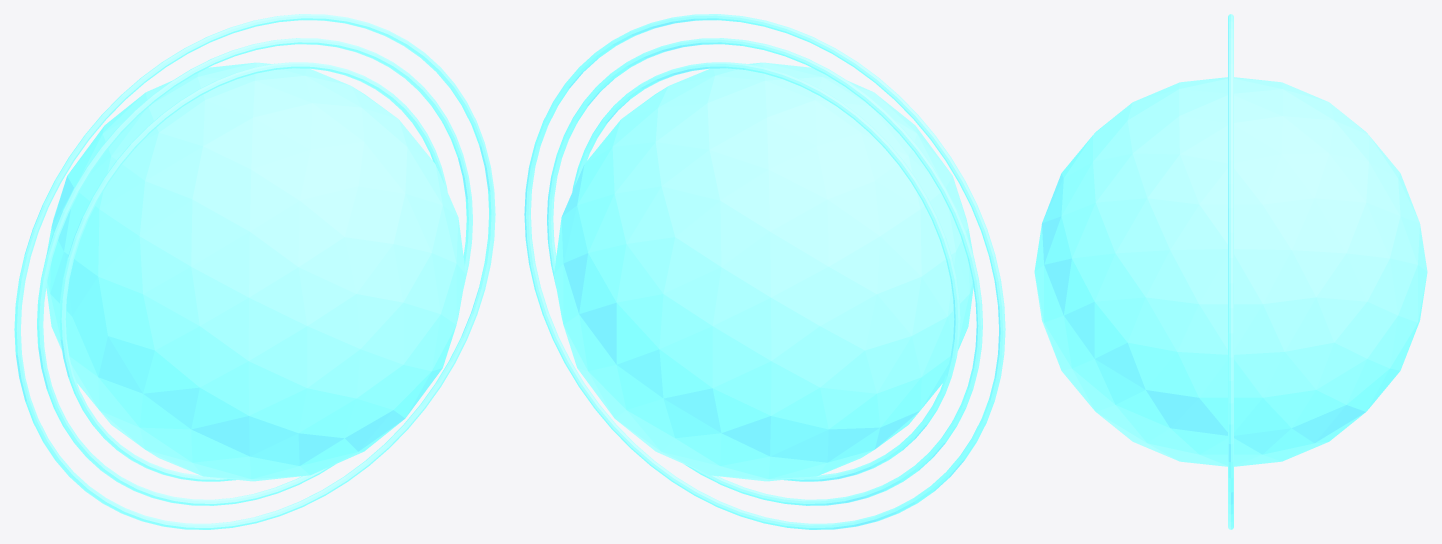
Rendered from hexad-confidentiality.glb.
3 views of the same model, side by side, from view 1: azimuth 30°, elevation 25°; view 2: azimuth 150°, elevation 25°; view 3: azimuth 270°, elevation 25° (orthographic). The views are drawn at different scales.
Parts seen in each view (by area): view 1: Outer_Shell, Shield_Layer_3, Shield_Layer_2, Shield_Layer_1; view 2: Outer_Shell, Shield_Layer_3, Shield_Layer_2, Shield_Layer_1; view 3: Outer_Shell, Shield_Layer_3.
Part boxes in pixels (bbox=[...]): Outer_Shell: bbox=[46, 62, 465, 481]; Shield_Layer_3: bbox=[14, 14, 495, 529]; Shield_Layer_2: bbox=[37, 38, 472, 505]; Shield_Layer_1: bbox=[59, 62, 447, 481]; Outer_Shell: bbox=[554, 62, 973, 481]; Shield_Layer_3: bbox=[524, 14, 1005, 529]; Shield_Layer_2: bbox=[547, 38, 982, 505]; Shield_Layer_1: bbox=[572, 62, 960, 481]; Outer_Shell: bbox=[1034, 77, 1427, 466]; Shield_Layer_3: bbox=[1228, 14, 1233, 529].
Bounding box in the file's own units: 3 × 3 × 2.28.
